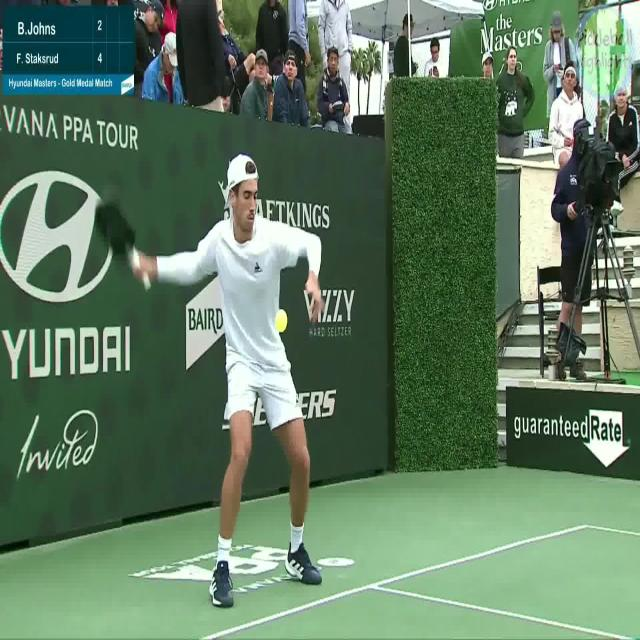ball: (270, 304, 293, 341)
